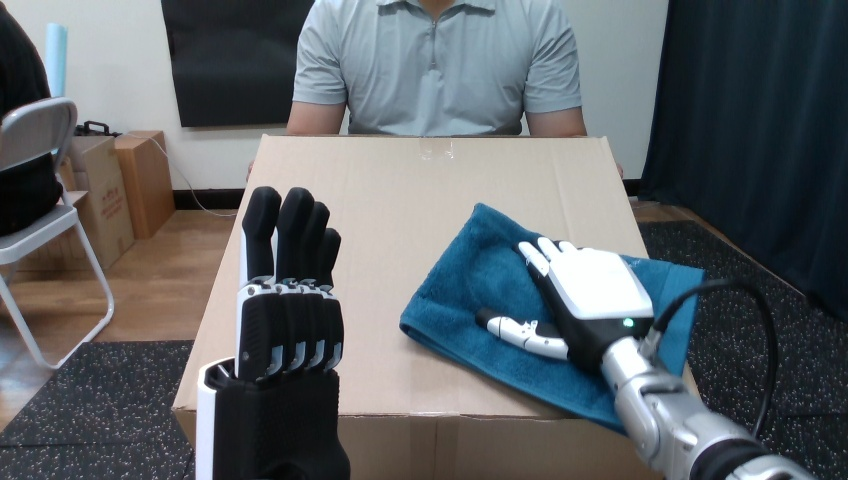left robot hand: (476, 236, 814, 479), (196, 187, 349, 478), (657, 286, 769, 434)
